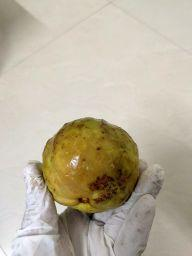guava: (40, 111, 143, 213)
